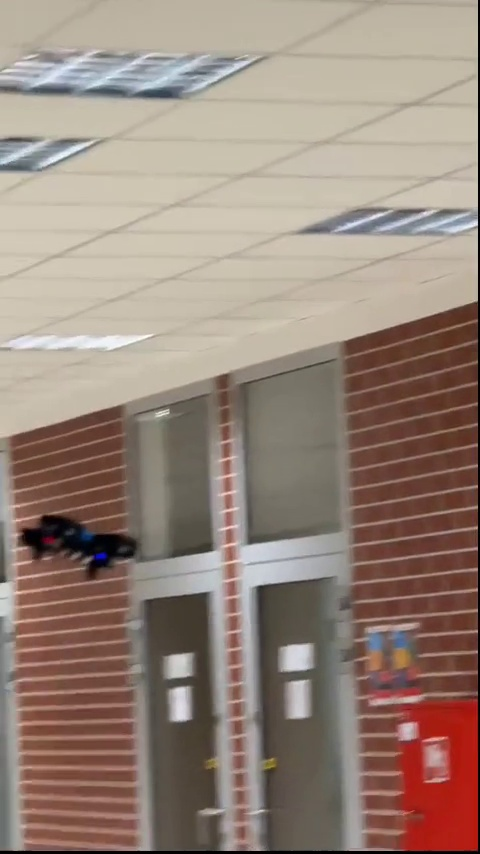drone: (17, 514, 141, 582)
